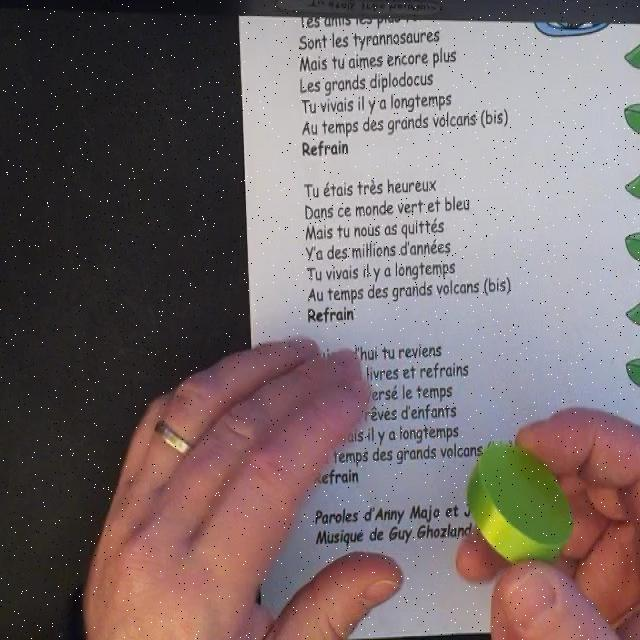round: (467, 443, 573, 570)
